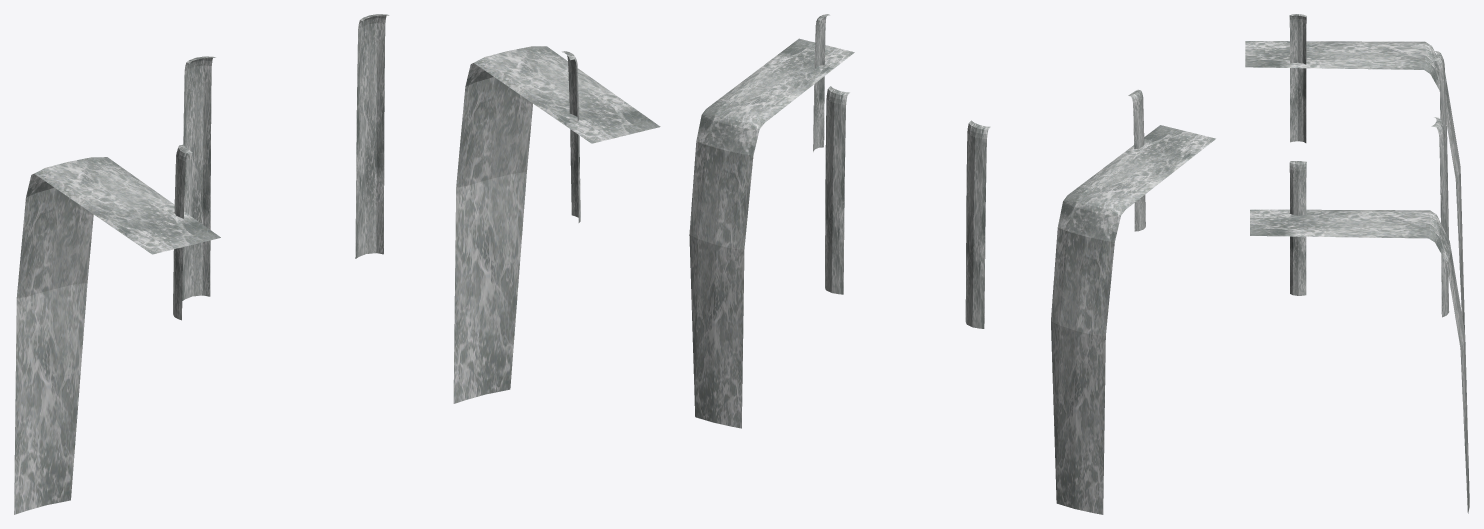
The model's file is Cell3LR_shui.fbx.
The picture shows the model from 3 angles, left to right: view 1: azimuth 30°, elevation 25°; view 2: azimuth 150°, elevation 25°; view 3: azimuth 270°, elevation 25°; orthographic projection. The views are drawn at different scales.
Parts seen in each view (by area): view 1: Cell3LR_shui; view 2: Cell3LR_shui; view 3: Cell3LR_shui.
Boxes of the visible parts, x1,y1,x2,y2 form: Cell3LR_shui: [14, 14, 660, 514]; Cell3LR_shui: [689, 14, 1215, 514]; Cell3LR_shui: [1245, 14, 1469, 513].
Bounding box in the file's own units: 26.87 × 21.28 × 12.93.
